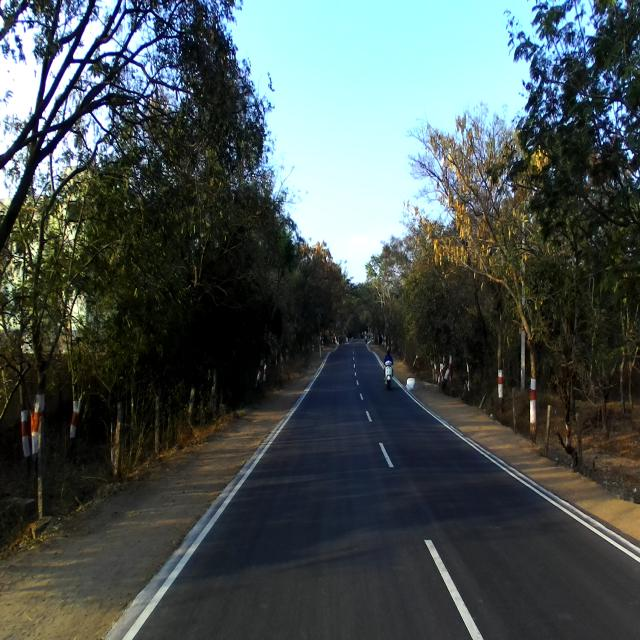tree ahead at: (14, 352, 53, 543), (518, 324, 544, 434)
